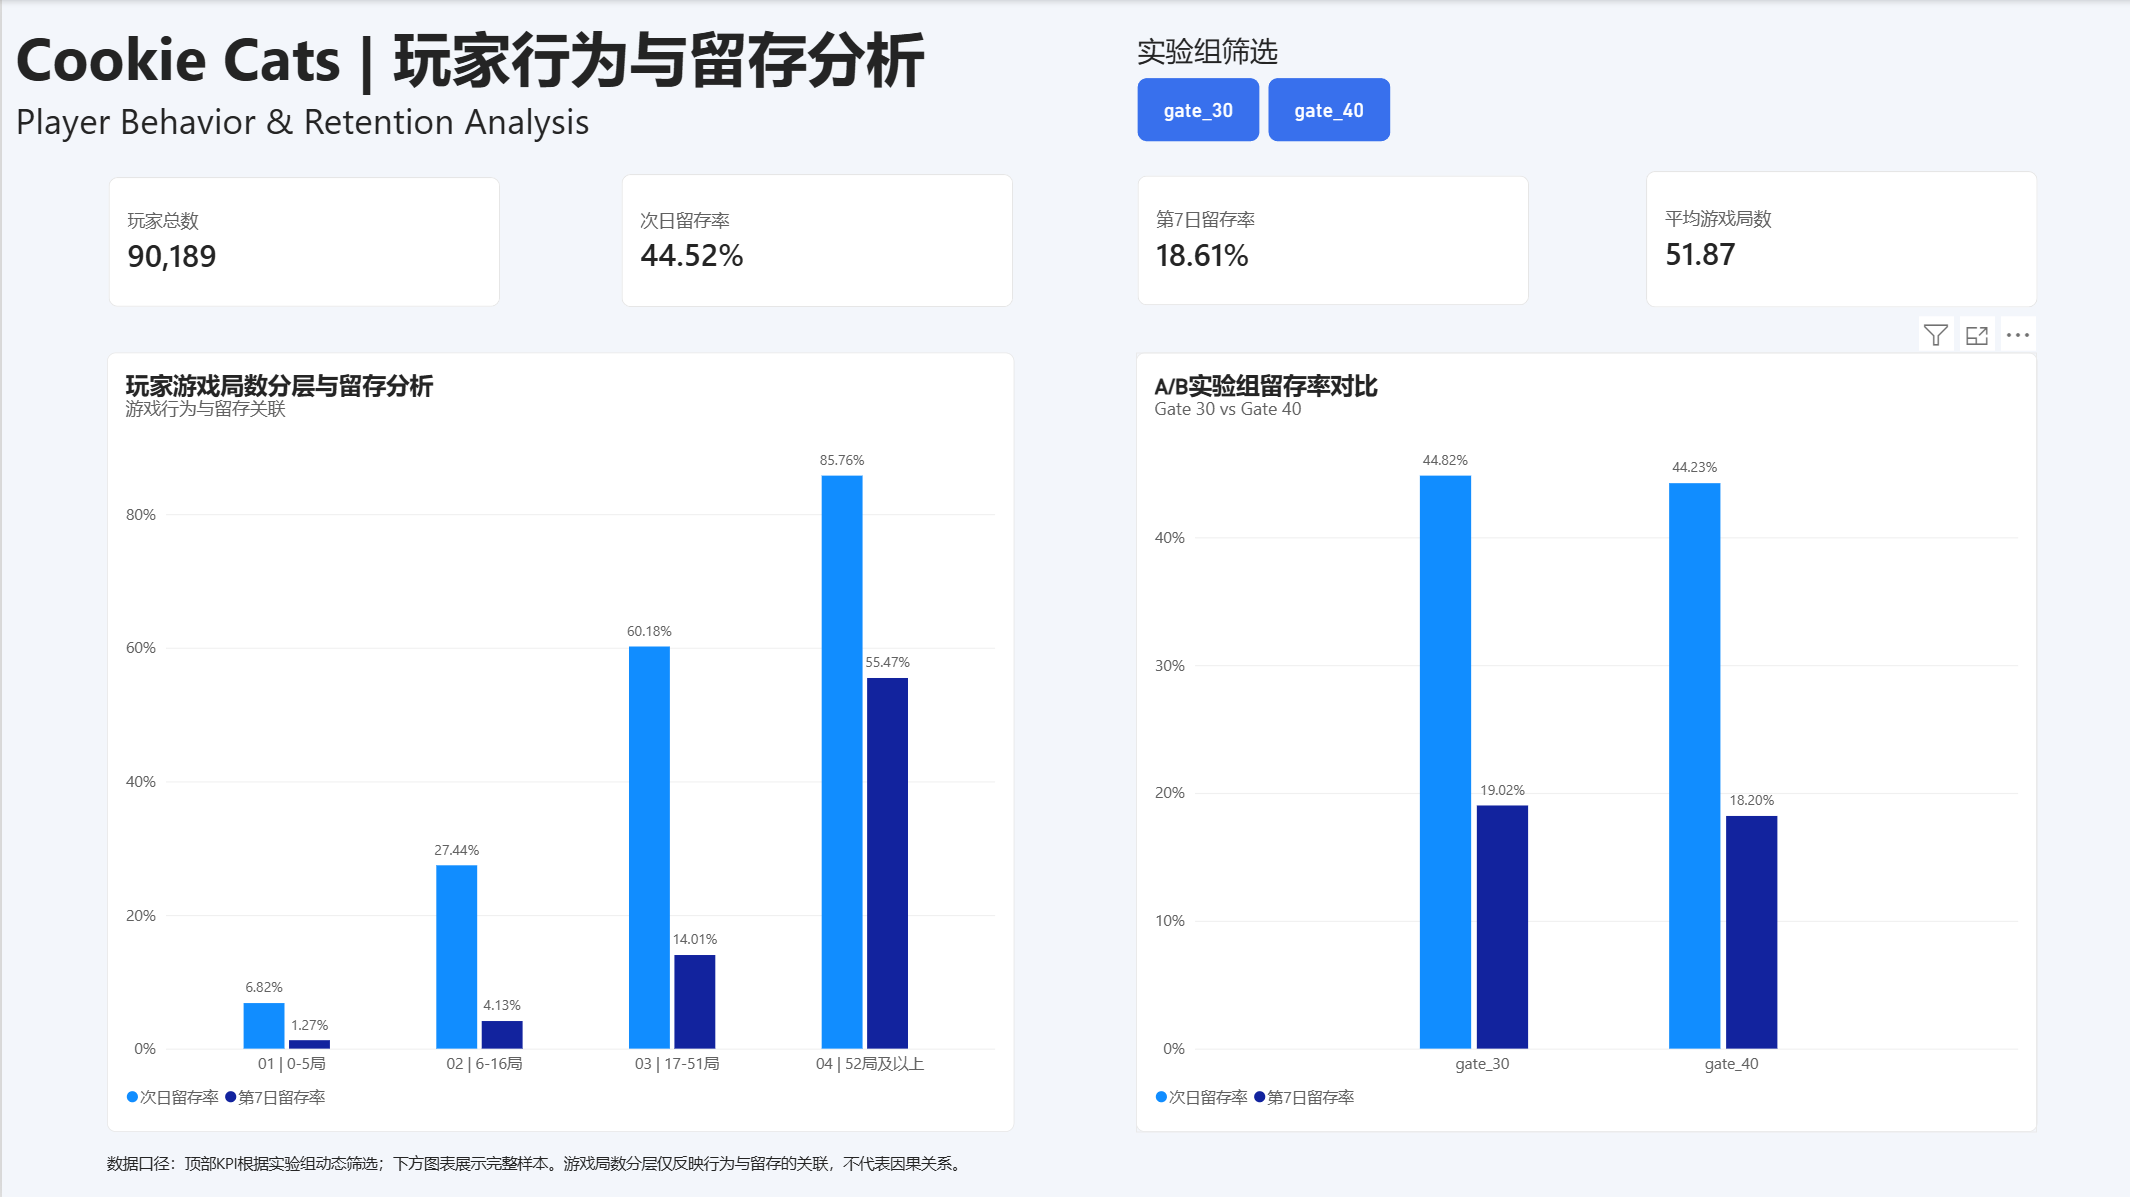

Layout of this report page (visuals, bound fields, positions):
{"tool":"powerbi","page":{"name":"01_玩家行为分析","canvas":[1920,1080],"ordinal":0},"visuals":[{"type":"cardVisual","fields":{"Data":["cookie_cats.玩家总数"]},"box":[95.7,159.5,353.8,117.9],"z":0},{"type":"cardVisual","fields":{"Data":["cookie_cats.次日留存率"]},"box":[559.1,156.8,353.8,120.7],"z":1000},{"type":"cardVisual","fields":{"Data":["cookie_cats.第7日留存率"]},"box":[1023.8,158.2,353.8,117.9],"z":2000},{"type":"cardVisual","fields":{"Data":["cookie_cats.平均游戏局数"]},"box":[1481.6,154,353.8,123.5],"z":3000},{"type":"clusteredColumnChart","title":"A/B实验组留存率对比","fields":{"Category":["cookie_cats.version"],"Y":["cookie_cats.次日留存率","cookie_cats.第7日留存率"]},"box":[1022.9,318.2,812.6,702.9],"z":4000},{"type":"advancedSlicerVisual","title":"实验组筛选","fields":{"Values":["cookie_cats.version"]},"box":[1023.6,27.9,238.8,99.3],"z":5000},{"type":"clusteredColumnChart","title":"玩家游戏局数分层与留存分析","fields":{"Category":["cookie_cats.游戏局数分层"],"Y":["cookie_cats.次日留存率","cookie_cats.第7日留存率"]},"box":[95.3,318.2,818,702.9],"z":6000},{"type":"textbox","box":[12.5,15.3,851.8,123.5],"z":7000},{"type":"textbox","box":[95.3,1039.1,1680.9,41.3],"z":8000}]}

Visuals, with their boxes in screenshot pixels (x1, y1, x2, y2), scaled from the page's 1920x1080 canvas onto the 2130x1197 screenshot:
cardVisual - cookie_cats.玩家总数: BBox(106, 177, 499, 307)
cardVisual - cookie_cats.次日留存率: BBox(620, 174, 1013, 308)
cardVisual - cookie_cats.第7日留存率: BBox(1136, 175, 1528, 306)
cardVisual - cookie_cats.平均游戏局数: BBox(1644, 171, 2036, 308)
"A/B实验组留存率对比" clusteredColumnChart: BBox(1135, 353, 2036, 1132)
"实验组筛选" advancedSlicerVisual: BBox(1136, 31, 1400, 141)
"玩家游戏局数分层与留存分析" clusteredColumnChart: BBox(106, 353, 1013, 1132)
textbox: BBox(14, 17, 959, 154)
textbox: BBox(106, 1152, 1970, 1196)
